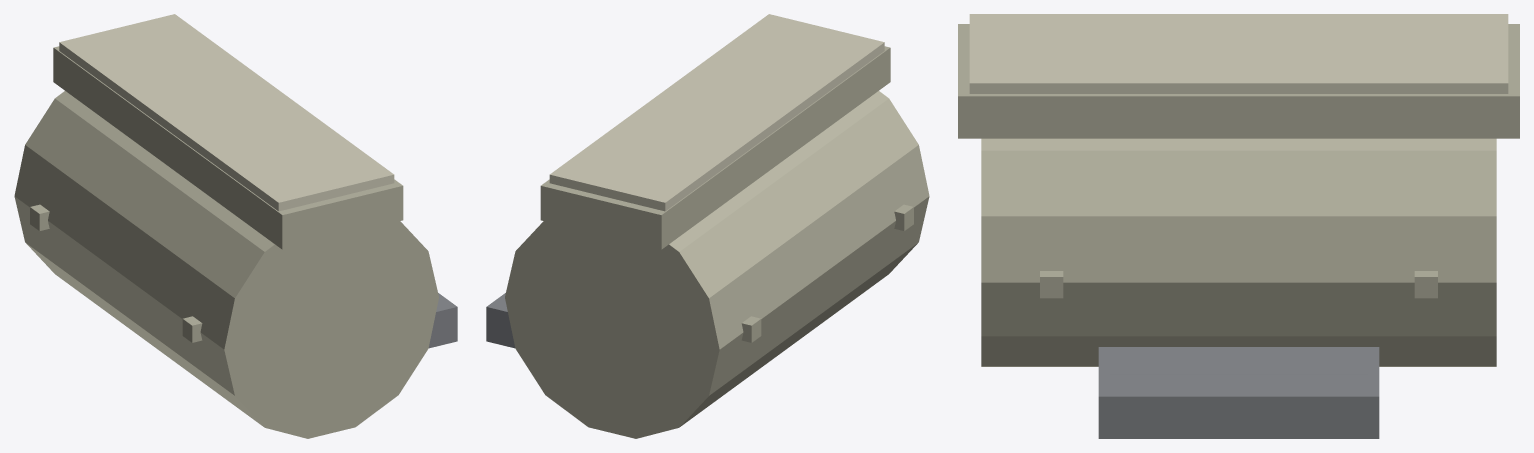
Rendered from armoured-column-and-field-camp-tool-roll-a5ca2965__23729.glb.
3 views of the same model, side by side, from view 1: azimuth 30°, elevation 25°; view 2: azimuth 150°, elevation 25°; view 3: azimuth 270°, elevation 25° (orthographic). The views are drawn at different scales.
Visible parts, largest first — view 1: tool-roll; view 2: tool-roll; view 3: tool-roll.
Part boxes in pixels (x1,y1,x2,y2): tool-roll: (14, 14, 457, 438); tool-roll: (486, 14, 929, 438); tool-roll: (958, 14, 1519, 438).
Bounding box in the file's own units: 0.35 × 0.2867 × 0.48.
